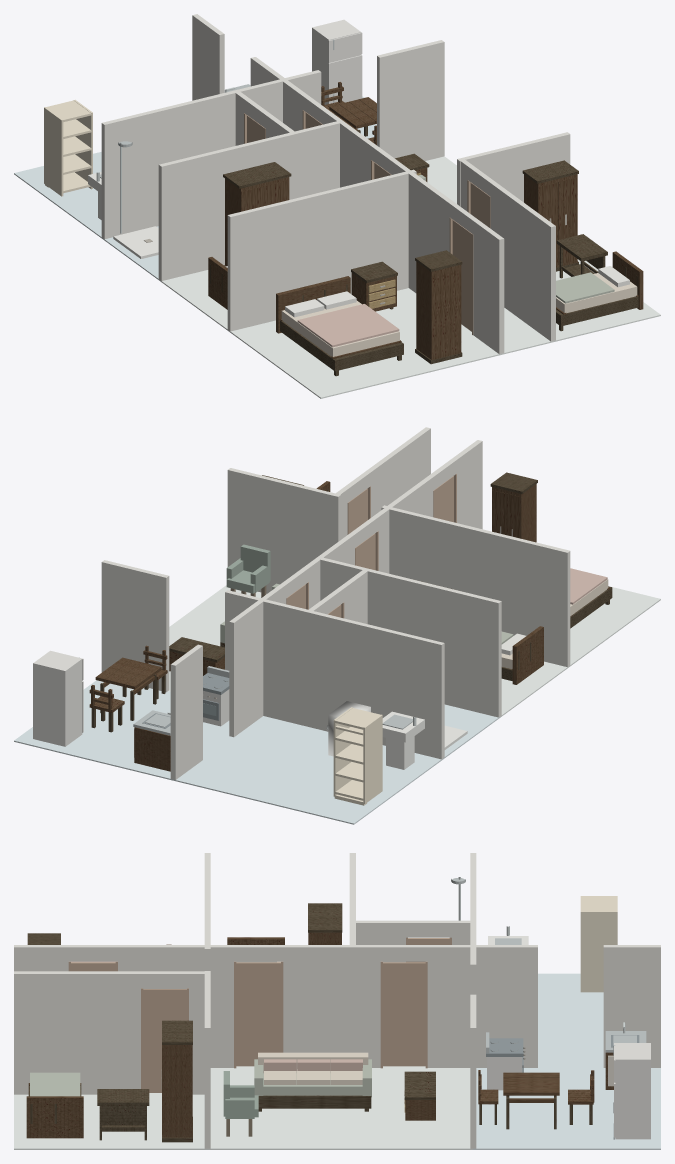
The picture shows the model from 3 angles, top to bottom: view 1: azimuth 30°, elevation 25°; view 2: azimuth 150°, elevation 25°; view 3: azimuth 270°, elevation 25°; orthographic projection. The views are drawn at different scales.
Visible parts, largest first — view 1: H32_WALL_11, H32_WALL_12, H32_WALL_13, H32_FLOOR_04_QUARTO_CASAL, H32_WALL_04, H32_WALL_00, H32_FURN_13_wardrobe__06__corpo, H32_WALL_06, H32_WALL_07, H32_WALL_02, H32_FURN_12_bed_double__08__cobertor, H32_WALL_10 (+36 smaller); view 2: H32_WALL_13, H32_WALL_11, H32_FLOOR_08_LAVANDERIA, H32_WALL_12, H32_WALL_02, H32_WALL_04, H32_FLOOR_03_COZINHA_/_REFEICOES, H32_WALL_09, H32_FURN_06_fridge__05__gabinete, H32_WALL_10, H32_WALL_00, H32_FLOOR_04_QUARTO_CASAL (+24 smaller); view 3: H32_WALL_00, H32_FLOOR_02_SALA_DE_ESTAR, H32_WALL_09, H32_WALL_08, H32_FLOOR_03_COZINHA_/_REFEICOES, H32_FLOOR_08_LAVANDERIA, H32_WALL_10, H32_WALL_07, H32_FLOOR_00_QUARTO_FRONTAL, H32_DOOR_03_LEAF, H32_DOOR_02_LEAF, H32_FURN_06_fridge__05__gabinete (+39 smaller).
Boxes of the visible parts, box(x1,y1,x2,y2) form: H32_WALL_11: box(227, 171, 409, 331); H32_WALL_12: box(158, 121, 339, 280); H32_WALL_13: box(101, 79, 282, 239); H32_FLOOR_04_QUARTO_CASAL: box(229, 288, 501, 398); H32_WALL_04: box(377, 40, 444, 160); H32_WALL_00: box(490, 181, 555, 341); H32_FURN_13_wardrobe__06__corpo: box(416, 261, 461, 359); H32_WALL_06: box(472, 219, 504, 354); H32_WALL_07: box(394, 162, 454, 292); H32_WALL_02: box(457, 132, 570, 206); H32_FURN_12_bed_double__08__cobertor: box(297, 304, 399, 347); H32_WALL_10: box(192, 14, 224, 100); H32_WALL_13: box(261, 599, 444, 759); H32_WALL_11: box(389, 506, 570, 666); H32_FLOOR_08_LAVANDERIA: box(173, 716, 442, 824); H32_WALL_12: box(320, 557, 501, 717); H32_WALL_02: box(227, 468, 340, 593); H32_WALL_04: box(101, 560, 169, 692); H32_FLOOR_03_COZINHA_/_REFEICOES: box(14, 680, 231, 780); H32_WALL_09: box(229, 583, 286, 737); H32_FURN_06_fridge__05__gabinete: box(33, 651, 82, 746); H32_WALL_10: box(170, 644, 202, 779); H32_WALL_00: box(365, 427, 430, 517); H32_FLOOR_04_QUARTO_CASAL: box(569, 586, 660, 666); H32_WALL_00: box(14, 971, 141, 1094); H32_FLOOR_02_SALA_DE_ESTAR: box(207, 1066, 473, 1149); H32_WALL_09: box(426, 945, 537, 1067); H32_WALL_08: box(282, 945, 381, 1067); H32_FLOOR_03_COZINHA_/_REFEICOES: box(473, 1066, 660, 1149); H32_FLOOR_08_LAVANDERIA: box(538, 973, 603, 1066); H32_WALL_10: box(603, 945, 660, 1067); H32_WALL_07: box(117, 945, 234, 1067); H32_FLOOR_00_QUARTO_FRONTAL: box(14, 1093, 207, 1149); H32_DOOR_03_LEAF: box(383, 962, 425, 1066); H32_DOOR_02_LEAF: box(236, 962, 280, 1066); H32_FURN_06_fridge__05__gabinete: box(615, 1043, 650, 1139).
Size of the model in its own units: 7.56 by 2.46 by 11.82.
Materials: 22 (3 with a texture image).
